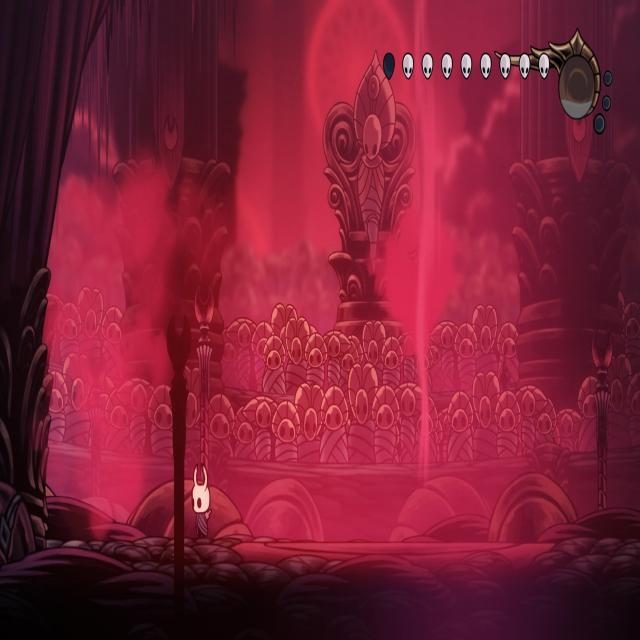Player: (189, 457, 215, 542)
